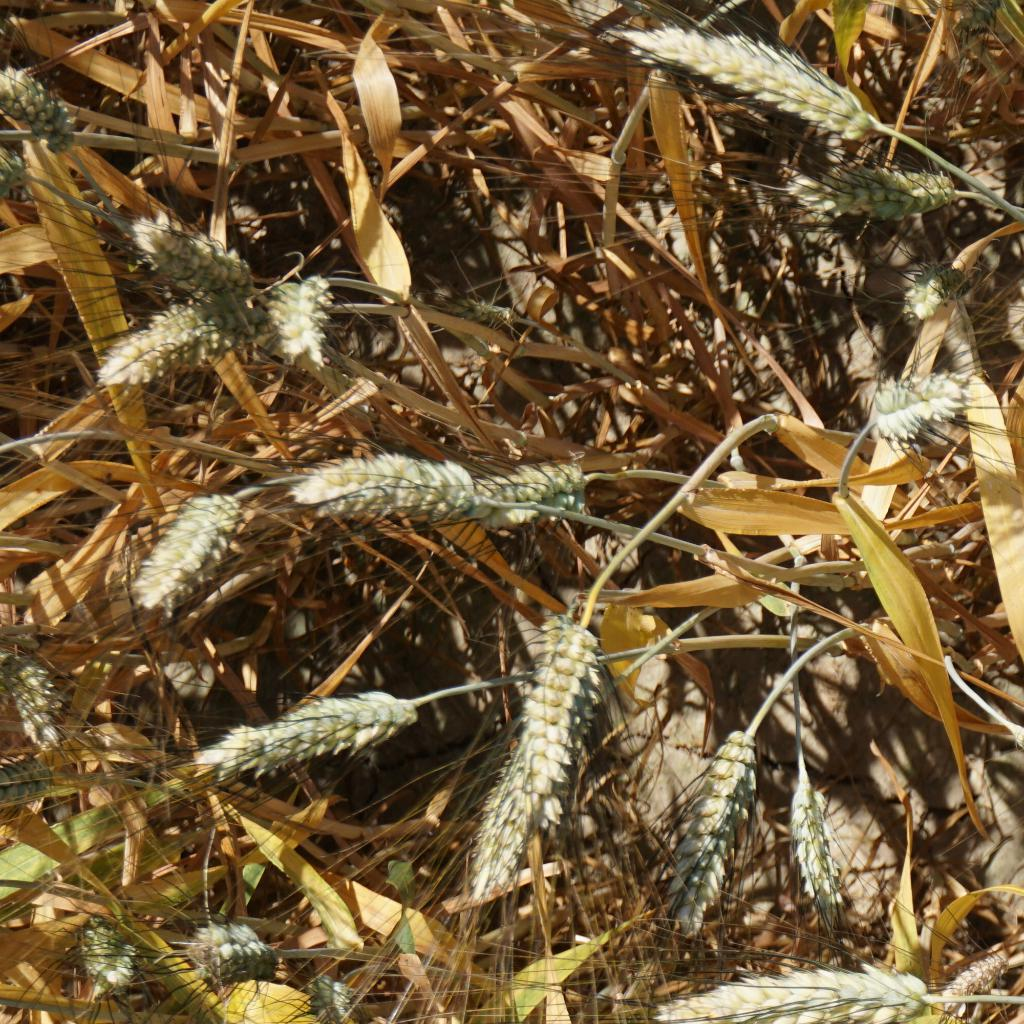0-0: (622, 9, 896, 161), (492, 610, 604, 799), (206, 669, 411, 772), (663, 709, 752, 939), (636, 956, 922, 1024), (281, 442, 478, 529), (439, 712, 527, 868), (137, 482, 249, 604), (813, 145, 964, 231), (118, 214, 246, 303), (846, 354, 966, 442), (478, 451, 606, 533), (789, 760, 846, 931), (102, 309, 228, 376), (179, 902, 279, 986), (0, 63, 90, 149), (267, 267, 336, 358), (902, 250, 979, 330), (0, 646, 60, 746), (936, 948, 1024, 1015), (80, 909, 145, 992), (437, 293, 527, 342), (299, 967, 370, 1024)
